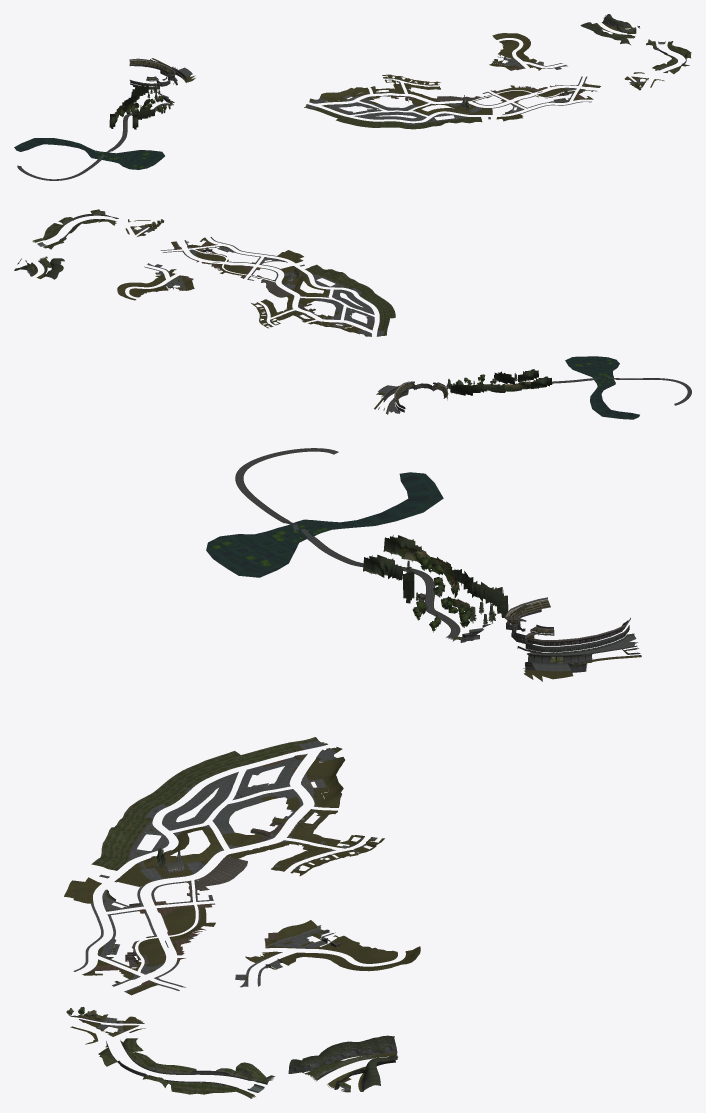
The model's file is nfs_most_wanted_-_rockport_map_part_2.glb.
3 renders of one model, top to bottom at view 1: azimuth 30°, elevation 25°; view 2: azimuth 150°, elevation 25°; view 3: azimuth 270°, elevation 25°, orthographic. The views are drawn at different scales.
Visible parts, largest first — view 1: TRN_CT_Highway4_WaterA_.001_62, TRN_CT_Props_GolfCourse.001_91, TRN_CT_Props_Hospital_0.009_80, XT_Evrgrn_TreelineL_1b__39, TRN_CT_Props_Stadium_02.005_151; view 2: TRN_CT_Highway4_WaterA_.001_62, XT_Evrgrn_TreelineL_1b__39, TRN_CT_Props_Hospital_0.009_80, TRN_CT_Props_GolfCourse.001_91; view 3: TRN_CT_Highway4_WaterA_.001_62, TRN_CT_Props_GolfCourse.001_91, TRN_CT_Props_Hospital_0.009_80, XT_Evrgrn_TreelineL_1b__39, TRN_CT_Props_Stadium_02.005_151, TRN_CT_Props_Highway1_0.031_116, TRN_CT_Props_Colonial_0.080_319.
Boxes of the visible parts, <box> form: TRN_CT_Highway4_WaterA_.001_62: <box>14,138,164,169</box>; TRN_CT_Props_GolfCourse.001_91: <box>580,14,632,44</box>; TRN_CT_Props_Hospital_0.009_80: <box>489,33,530,69</box>; XT_Evrgrn_TreelineL_1b__39: <box>122,85,154,119</box>; TRN_CT_Props_Stadium_02.005_151: <box>129,58,166,71</box>; TRN_CT_Highway4_WaterA_.001_62: <box>565,356,639,419</box>; XT_Evrgrn_TreelineL_1b__39: <box>450,371,514,395</box>; TRN_CT_Props_Hospital_0.009_80: <box>117,277,194,300</box>; TRN_CT_Props_GolfCourse.001_91: <box>14,258,64,279</box>; TRN_CT_Highway4_WaterA_.001_62: <box>206,472,443,577</box>; TRN_CT_Props_GolfCourse.001_91: <box>288,1035,397,1091</box>; TRN_CT_Props_Hospital_0.009_80: <box>277,920,420,971</box>; XT_Evrgrn_TreelineL_1b__39: <box>403,569,508,617</box>; TRN_CT_Props_Stadium_02.005_151: <box>568,617,637,652</box>; TRN_CT_Props_Highway1_0.031_116: <box>139,1057,256,1098</box>; TRN_CT_Props_Colonial_0.080_319: <box>134,763,217,809</box>.
Bounding box in the file's own units: 3732 × 167 × 1466.
83 materials, 83 textured.
